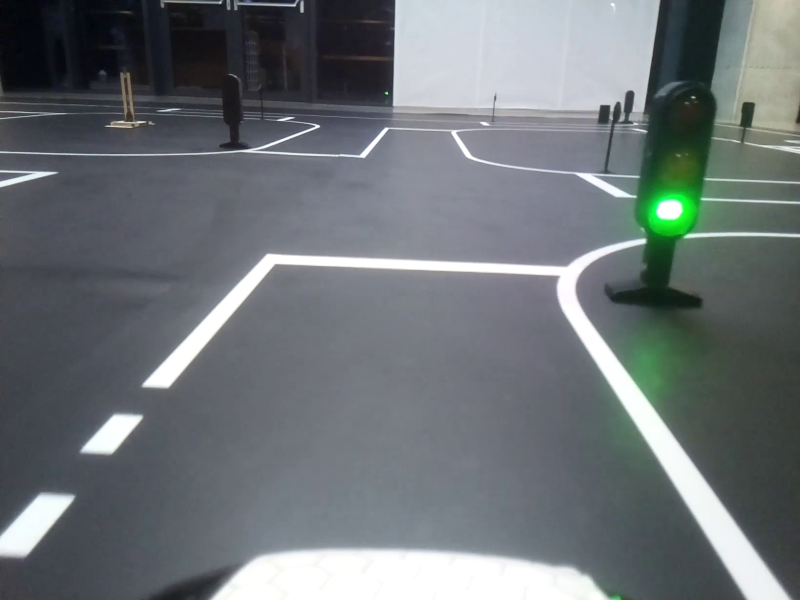traffic_green: (640, 79, 701, 239)
